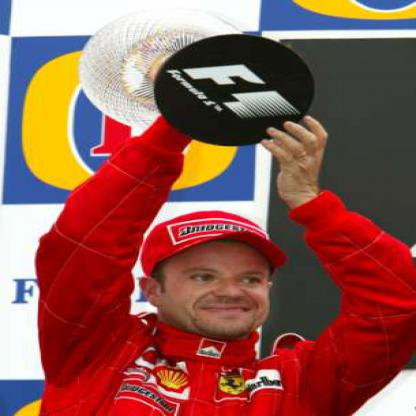face: (156, 218, 283, 341)
